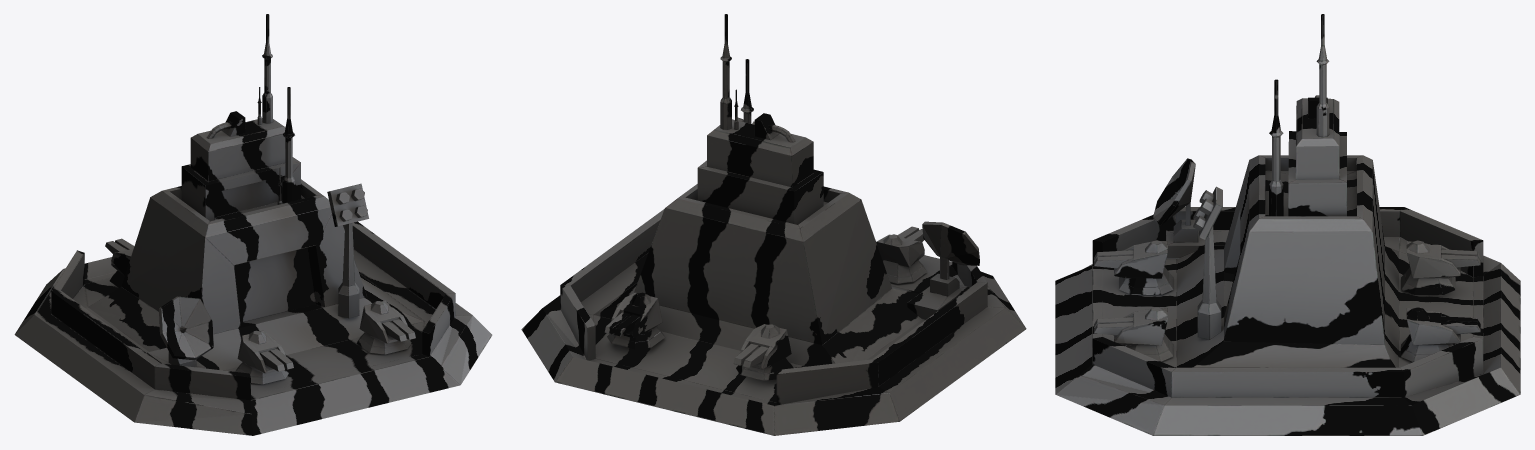
Rendered from bossbase.fbx.
3 views of the same model, side by side, from view 1: azimuth 30°, elevation 25°; view 2: azimuth 150°, elevation 25°; view 3: azimuth 270°, elevation 25° (orthographic). The views are drawn at different scales.
Visible parts, largest first — view 1: HeadQuarters_green_black.001; view 2: HeadQuarters_green_black.001; view 3: HeadQuarters_green_black.001.
Boxes of the visible parts, box(x1,y1,x2,y2) form: HeadQuarters_green_black.001: box(14, 14, 492, 435); HeadQuarters_green_black.001: box(521, 14, 1026, 435); HeadQuarters_green_black.001: box(1055, 14, 1520, 435).
Size of the model in its own units: 327 by 263 by 327.
1 material, 1 textured.
